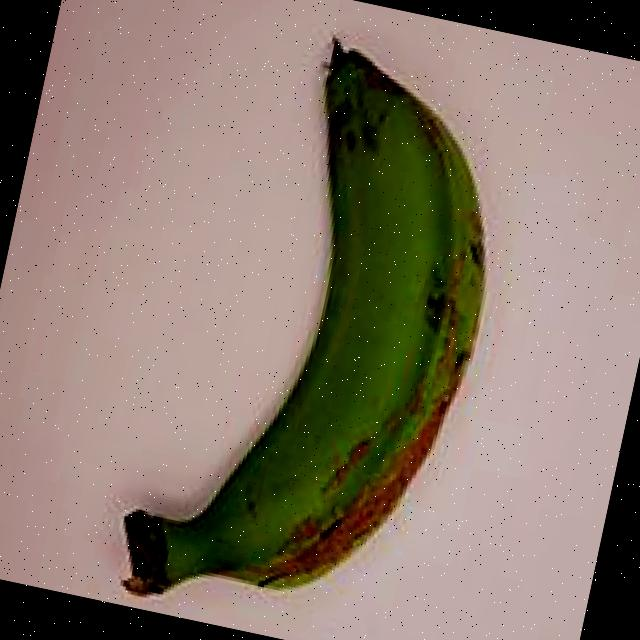Raw: (75, 0, 554, 640)
